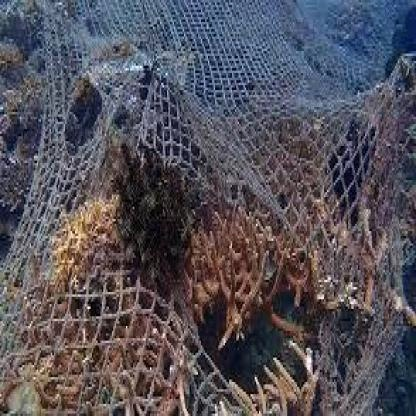net: (7, 3, 416, 411)
